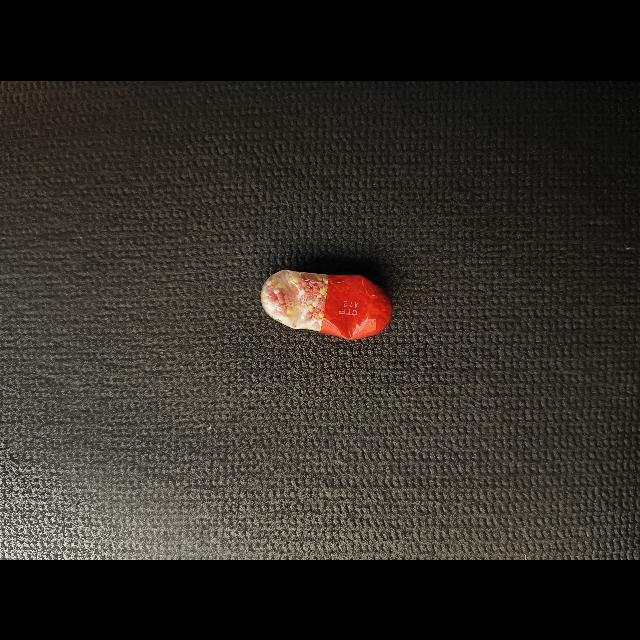Defective Capsule: (261, 269, 393, 340)
